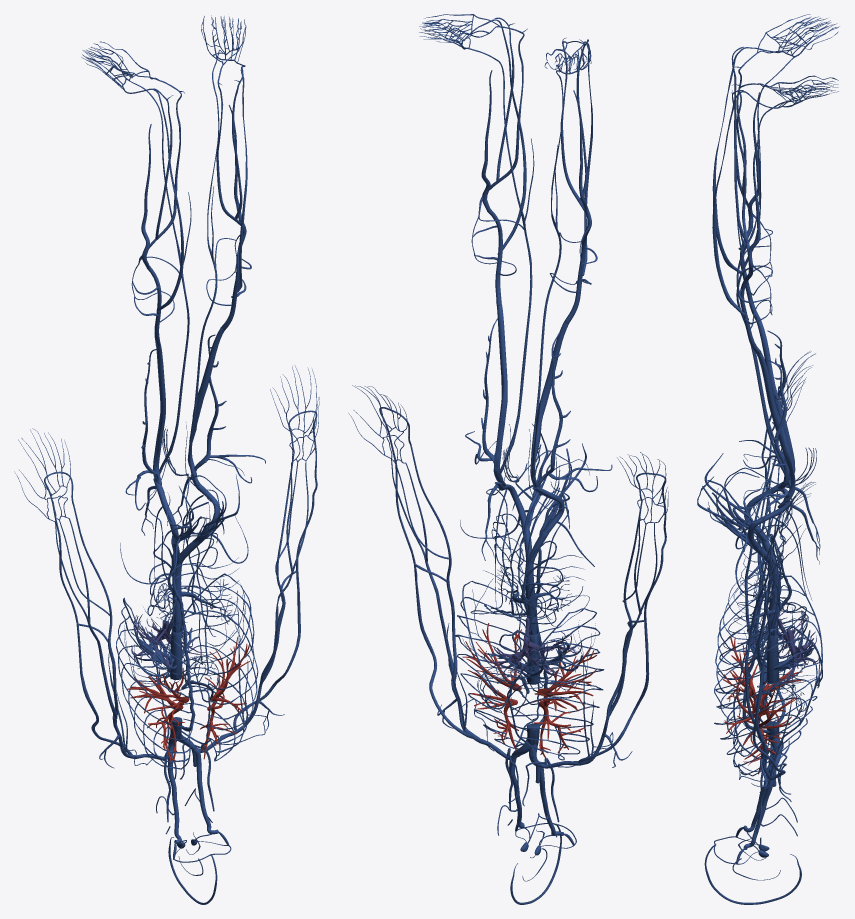
Rendered from venous.glb.
The picture shows the model from 3 angles, left to right: view 1: azimuth 30°, elevation 25°; view 2: azimuth 150°, elevation 25°; view 3: azimuth 270°, elevation 25°; orthographic projection. The views are drawn at different scales.
Visible parts, largest first — view 1: FJ1985, FJ1994, FJ2145, FJ2103, FJ2220, FJ2144, FJ2102, FJ2272, FJ2218, FJ2176, FJ2270; view 2: FJ1994, FJ2103, FJ1985, FJ2102, FJ2145, FJ2220, FJ2144, FJ2272, FJ2218, FJ2121; view 3: FJ1985, FJ1994, FJ2102, FJ2103, FJ2220, FJ2144, FJ2121, FJ2145, FJ2176, FJ2099, FJ2218, FJ3441 (+16 smaller).
Part boxes in pixels (x1=…): FJ1985: x1=168, y1=574, x2=258, y2=761; FJ1994: x1=116, y1=598, x2=193, y2=769; FJ2145: x1=128, y1=80, x2=191, y2=474; FJ2103: x1=187, y1=59, x2=219, y2=467; FJ2220: x1=233, y1=439, x2=317, y2=730; FJ2144: x1=153, y1=343, x2=165, y2=484; FJ2102: x1=189, y1=327, x2=224, y2=476; FJ2272: x1=52, y1=503, x2=132, y2=754; FJ2218: x1=260, y1=452, x2=294, y2=681; FJ2176: x1=138, y1=88, x2=183, y2=311; FJ2270: x1=73, y1=506, x2=118, y2=718; FJ1994: x1=507, y1=595, x2=604, y2=760; FJ2103: x1=468, y1=48, x2=534, y2=475; FJ1985: x1=455, y1=570, x2=537, y2=748; FJ2102: x1=493, y1=302, x2=507, y2=482; FJ2145: x1=530, y1=70, x2=563, y2=481; FJ2220: x1=388, y1=432, x2=473, y2=738; FJ2144: x1=531, y1=319, x2=568, y2=487; FJ2272: x1=578, y1=499, x2=666, y2=765; FJ2218: x1=410, y1=445, x2=457, y2=680; FJ2121: x1=478, y1=19, x2=526, y2=254; FJ1985: x1=714, y1=621, x2=820, y2=776; FJ1994: x1=714, y1=573, x2=820, y2=756; FJ2102: x1=757, y1=352, x2=795, y2=502; FJ2103: x1=736, y1=100, x2=793, y2=488; FJ2220: x1=752, y1=542, x2=785, y2=780; FJ2144: x1=756, y1=318, x2=795, y2=484; FJ2121: x1=712, y1=91, x2=756, y2=315; FJ2145: x1=736, y1=57, x2=793, y2=476; FJ2176: x1=712, y1=47, x2=756, y2=275; FJ2099: x1=767, y1=359, x2=789, y2=508; FJ2218: x1=744, y1=540, x2=772, y2=743; FJ3441: x1=766, y1=635, x2=779, y2=683.
Bounding box in the file's own units: 649 × 1708 × 261.
